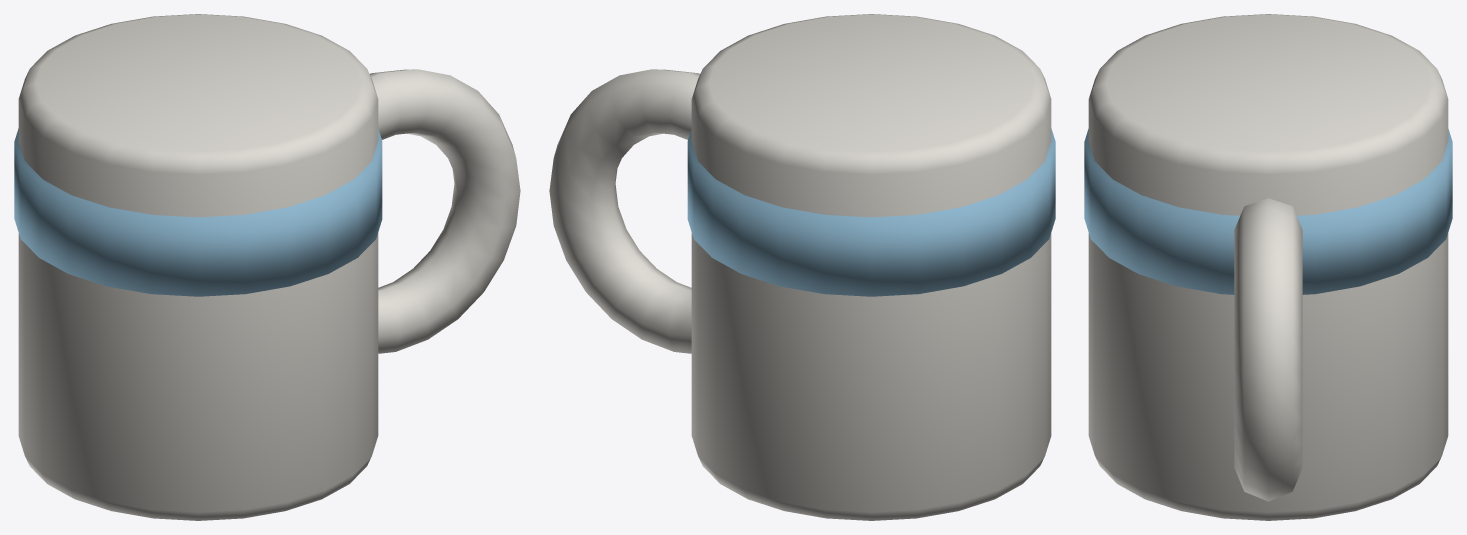
The model's file is mug.fbx.
The picture shows the model from 3 angles, left to right: view 1: azimuth 30°, elevation 25°; view 2: azimuth 150°, elevation 25°; view 3: azimuth 270°, elevation 25°; orthographic projection.
Visible parts, largest first — view 1: mug; view 2: mug; view 3: mug.
Part boxes in pixels (<box>): mug: <box>14,14,520,520</box>; mug: <box>549,14,1055,520</box>; mug: <box>1084,14,1452,520</box>.
Size of the model in its own units: 0.129 by 0.095 by 0.086.
